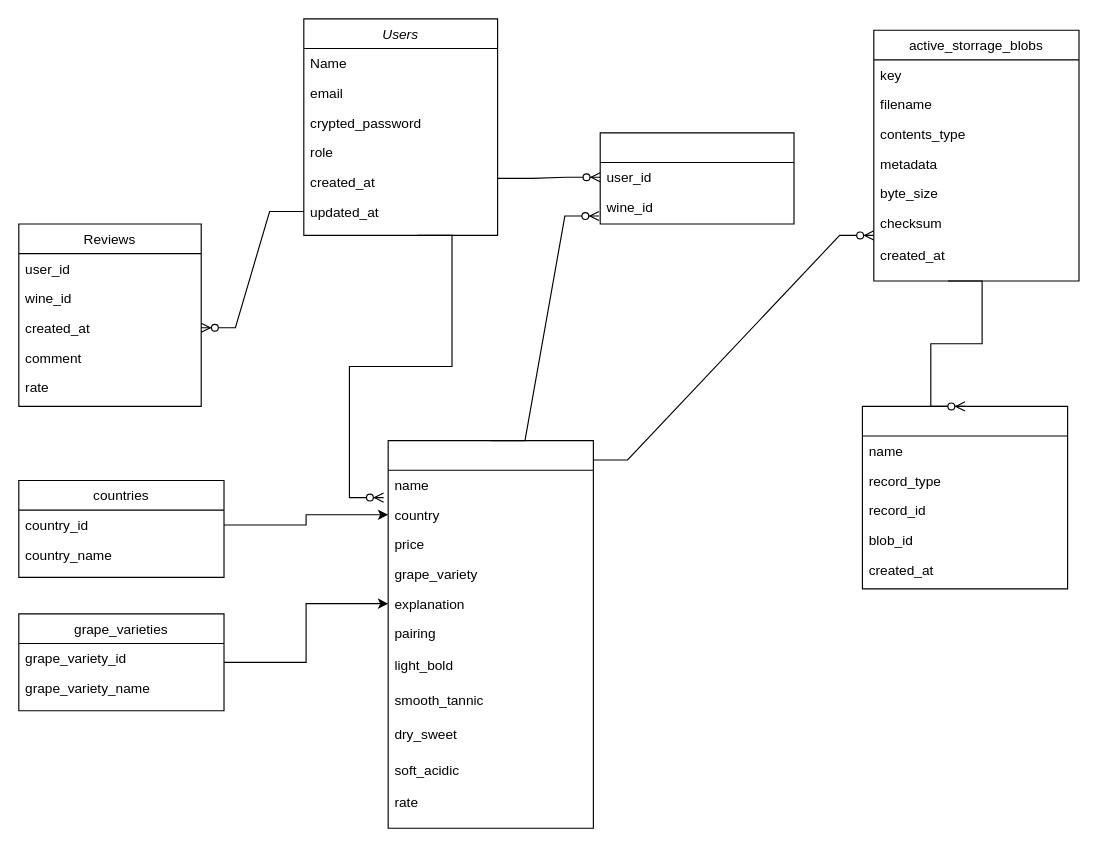
Some shapes in this 1098 by 847 pixel diagram are drawn without their labels. The box of each missing label's shape, as (x1, y1, x2, y2) in pixels:
active_storage_attachments: (861, 405, 1068, 589)
Bookmarks: (599, 132, 794, 224)
Wines: (387, 439, 593, 828)
